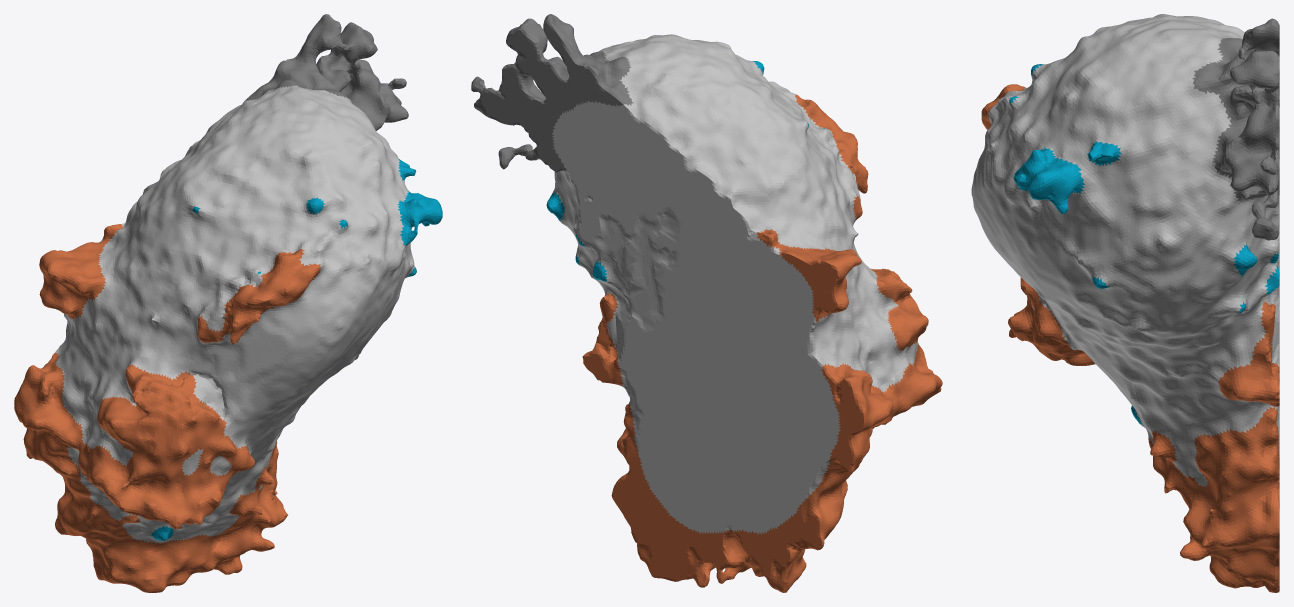
3 views of the same model, side by side, from view 1: azimuth 30°, elevation 25°; view 2: azimuth 150°, elevation 25°; view 3: azimuth 270°, elevation 25° (orthographic). The views are drawn at different scales.
Bounding box in the file's own units: 127 × 161 × 70.55.
